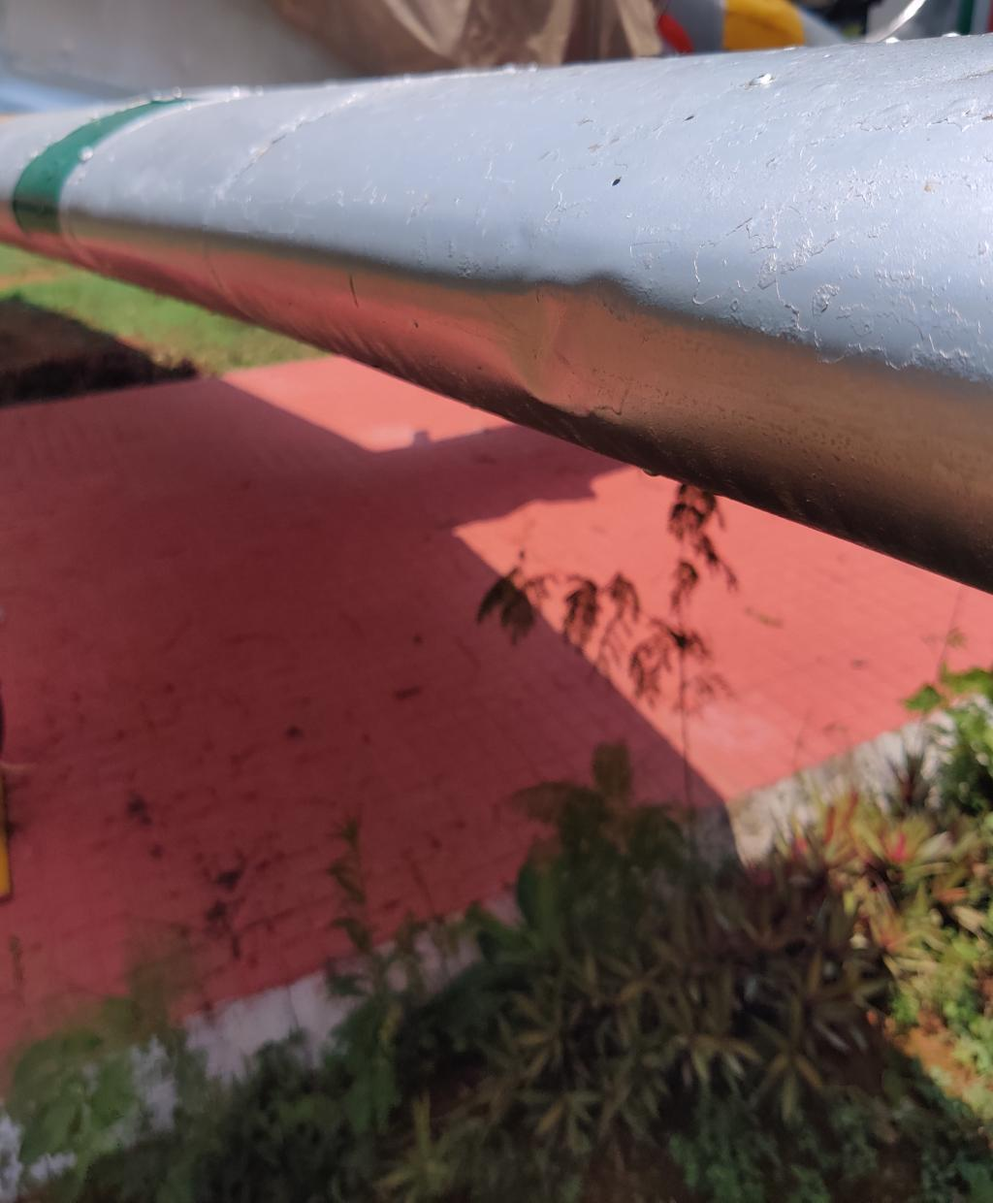dent: (483, 225, 659, 461)
